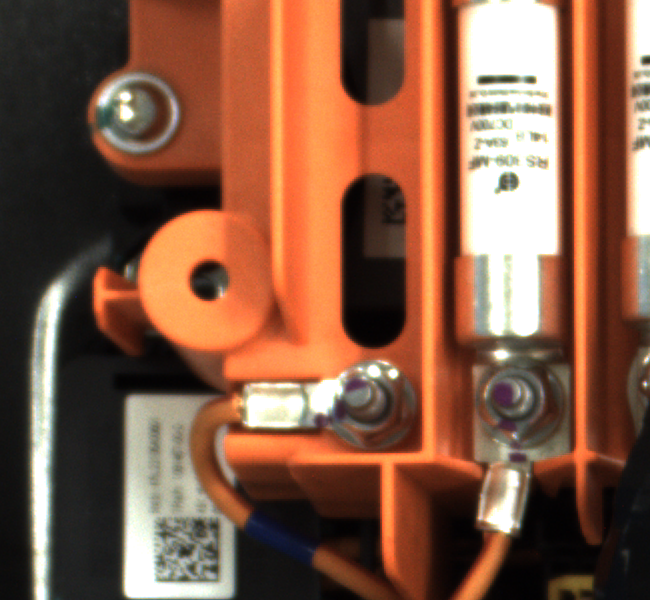screw_m: (78, 59, 202, 166)
screw_s: (472, 352, 573, 460), (321, 358, 421, 449)
